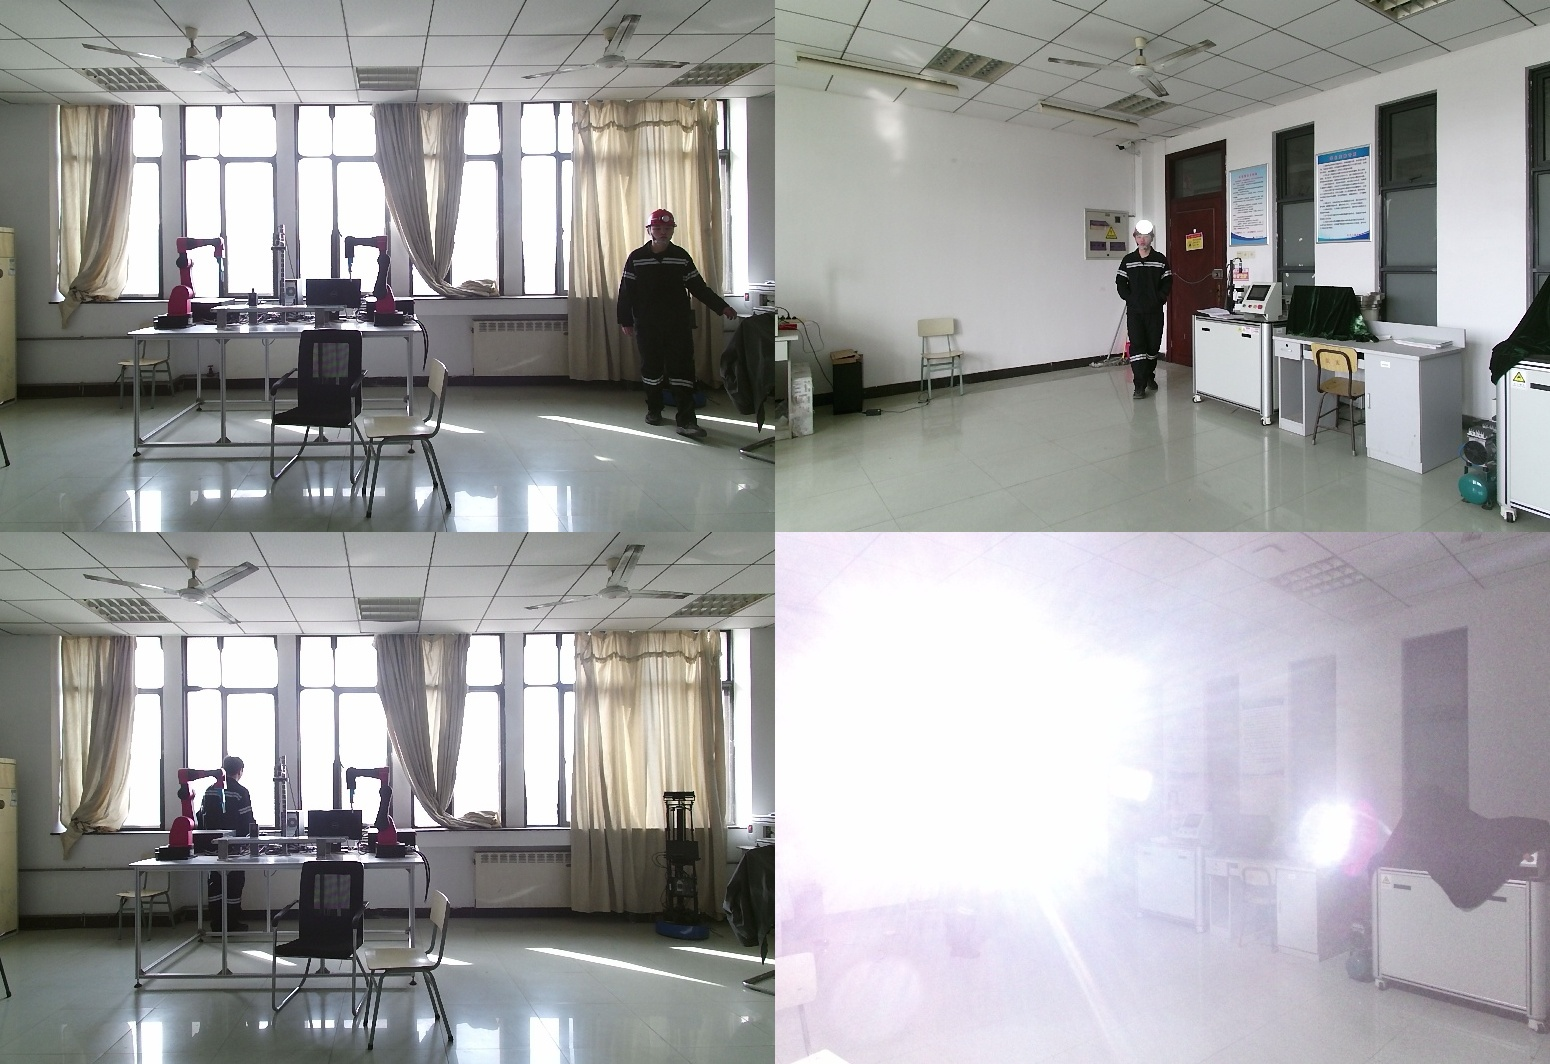person: (620, 209, 725, 433), (919, 752, 999, 975), (1117, 228, 1180, 401), (198, 760, 254, 949)
